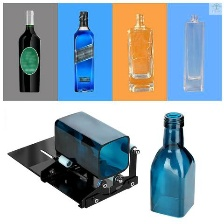bottle: (146, 105, 200, 219), (173, 6, 213, 97), (65, 6, 105, 94), (121, 9, 158, 95), (14, 7, 42, 97)
